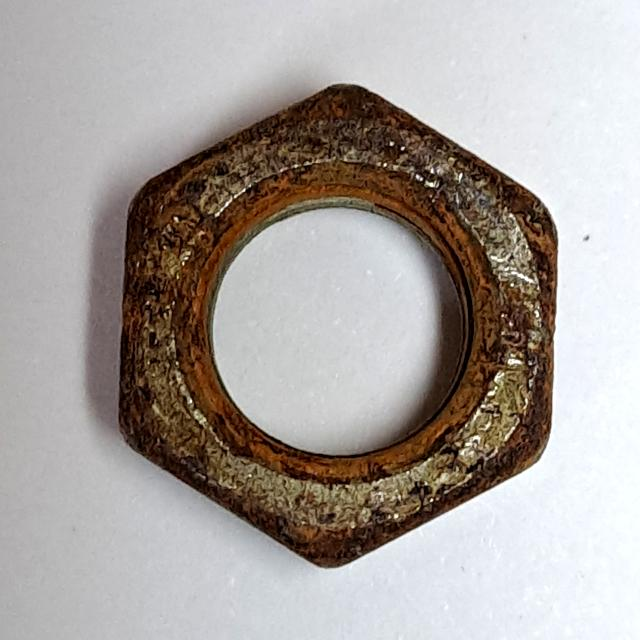Rust: (109, 73, 570, 583)
